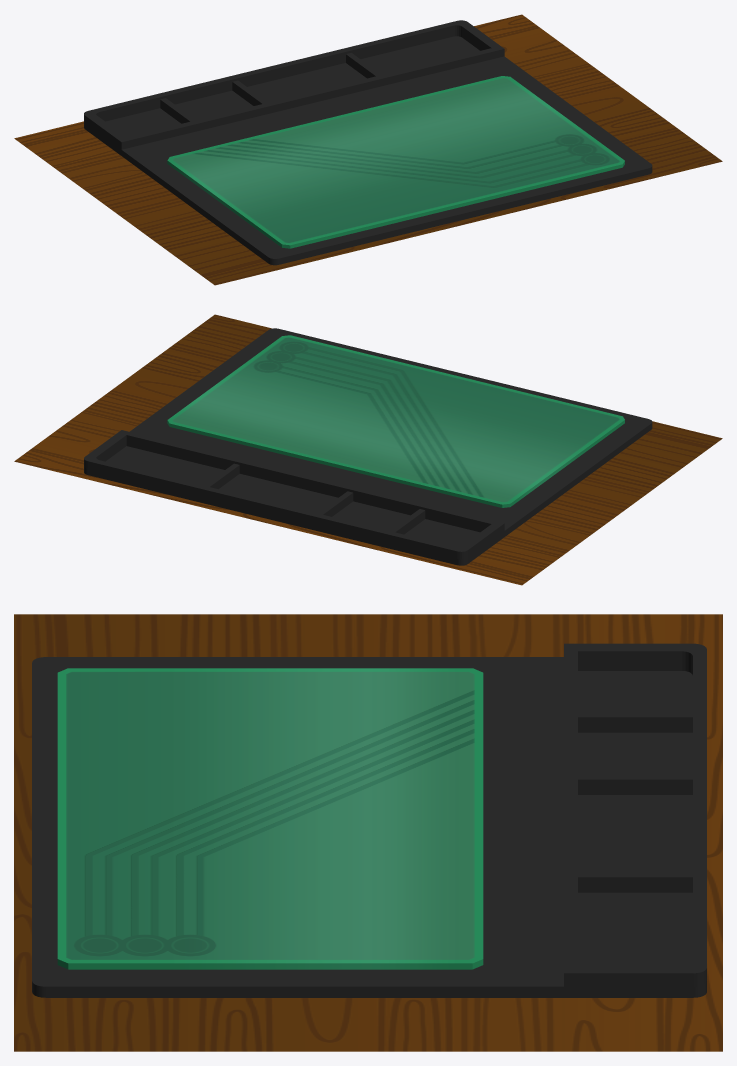
The model's file is ST_stage_G.fbx.
The picture shows the model from 3 angles, top to bottom: view 1: azimuth 30°, elevation 25°; view 2: azimuth 150°, elevation 25°; view 3: azimuth 270°, elevation 25°; orthographic projection. The views are drawn at different scales.
Parts seen in each view (by area): view 1: stage, pCube1, table; view 2: stage, pCube1, table; view 3: stage, pCube1, table, pCube8, pCube7, pCube6.
Part boxes in pixels (left/top/right/bottom): stage: left=167, top=76, right=624, bottom=248; pCube1: left=84, top=20, right=652, bottom=265; table: left=14, top=14, right=722, bottom=285; stage: left=167, top=335, right=624, bottom=507; pCube1: left=84, top=328, right=652, bottom=565; table: left=14, top=314, right=722, bottom=585; stage: left=57, top=668, right=483, bottom=969; pCube1: left=32, top=643, right=706, bottom=997; table: left=14, top=614, right=722, bottom=1051; pCube8: left=578, top=872, right=692, bottom=892; pCube7: left=578, top=774, right=692, bottom=794; pCube6: left=578, top=712, right=692, bottom=732.
Size of the model in its own units: 49.26 by 1.29 by 33.75.
Materials: 3 (3 with a texture image).
